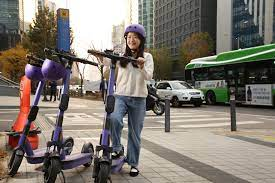kick_neck: (52, 66, 69, 150)
kick_wheel: (9, 147, 22, 174), (44, 156, 58, 181), (82, 141, 92, 165)
